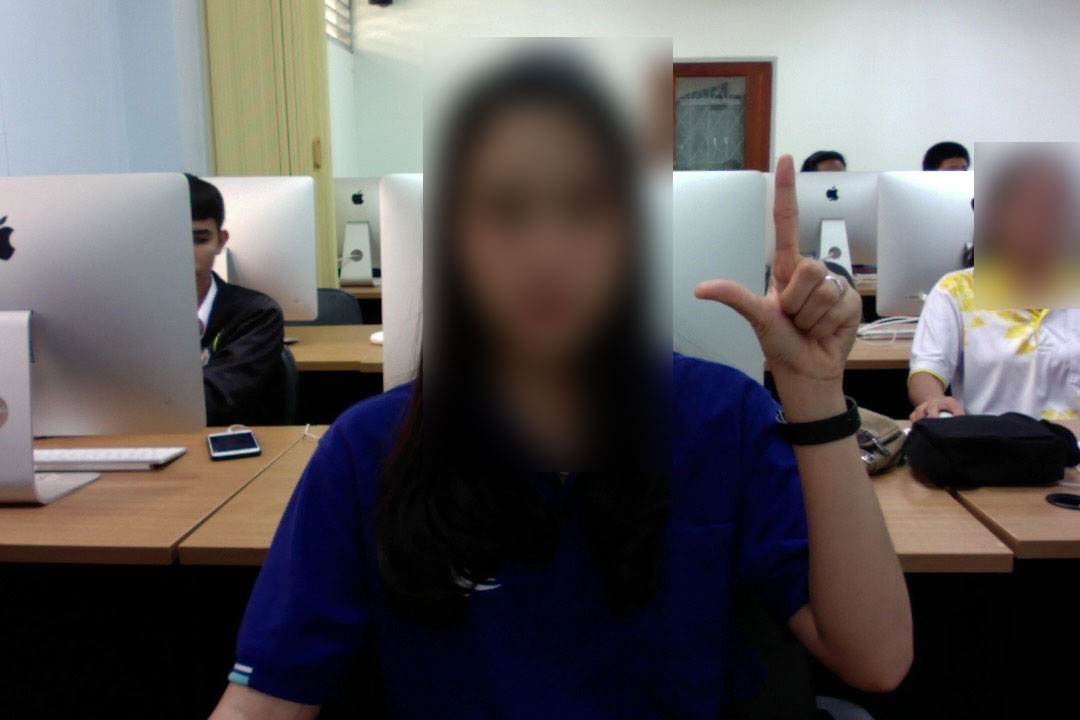lor: (687, 137, 883, 397)
